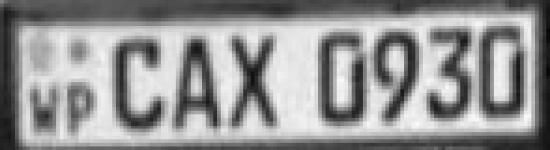0: (313, 24, 370, 133), (476, 17, 529, 128)
3: (426, 20, 476, 128)
6: (27, 77, 62, 138)
9: (370, 21, 425, 130)
A: (170, 30, 223, 136)
C: (105, 29, 170, 135)
P: (62, 78, 97, 142)
X: (223, 26, 285, 136)
